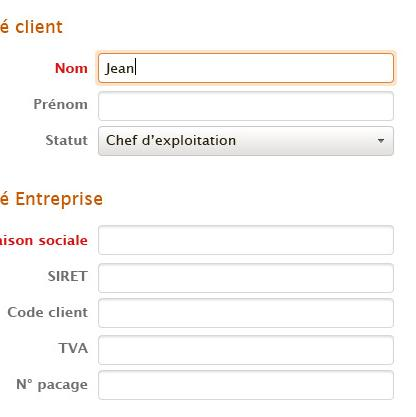field: (94, 87, 397, 125), (92, 331, 396, 368), (92, 50, 398, 86), (92, 222, 396, 258), (92, 368, 397, 403), (92, 260, 395, 295), (92, 295, 396, 329), (100, 129, 396, 157)
field_with_label: (31, 86, 400, 128), (5, 295, 401, 334), (14, 366, 400, 406), (54, 46, 402, 87), (49, 260, 397, 298), (57, 331, 400, 369), (41, 126, 396, 156)
